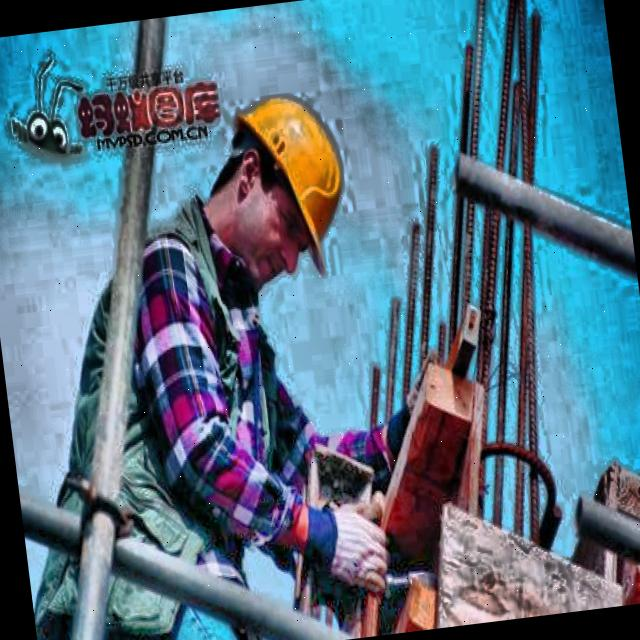helmet: (198, 74, 367, 288)
